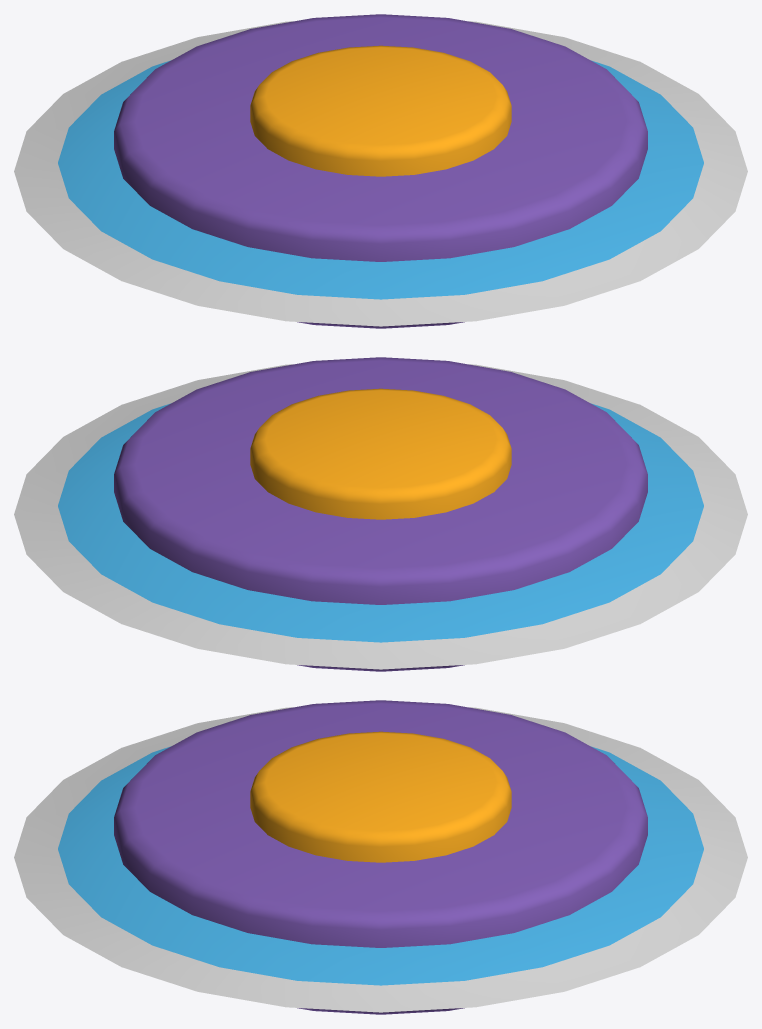
File: Round_Blade_01.fbx
The picture shows the model from 3 angles, top to bottom: view 1: azimuth 30°, elevation 25°; view 2: azimuth 150°, elevation 25°; view 3: azimuth 270°, elevation 25°; orthographic projection.
Parts seen in each view (by area): view 1: Obstacle_Round_Blade_01; view 2: Obstacle_Round_Blade_01; view 3: Obstacle_Round_Blade_01.
Part boxes in pixels (x1=…): Obstacle_Round_Blade_01: x1=14, y1=14, x2=747, y2=328; Obstacle_Round_Blade_01: x1=14, y1=357, x2=747, y2=671; Obstacle_Round_Blade_01: x1=14, y1=700, x2=747, y2=1014.
Size of the model in its own units: 51.76 by 11.71 by 51.76.
Materials: 1 (1 with a texture image).
